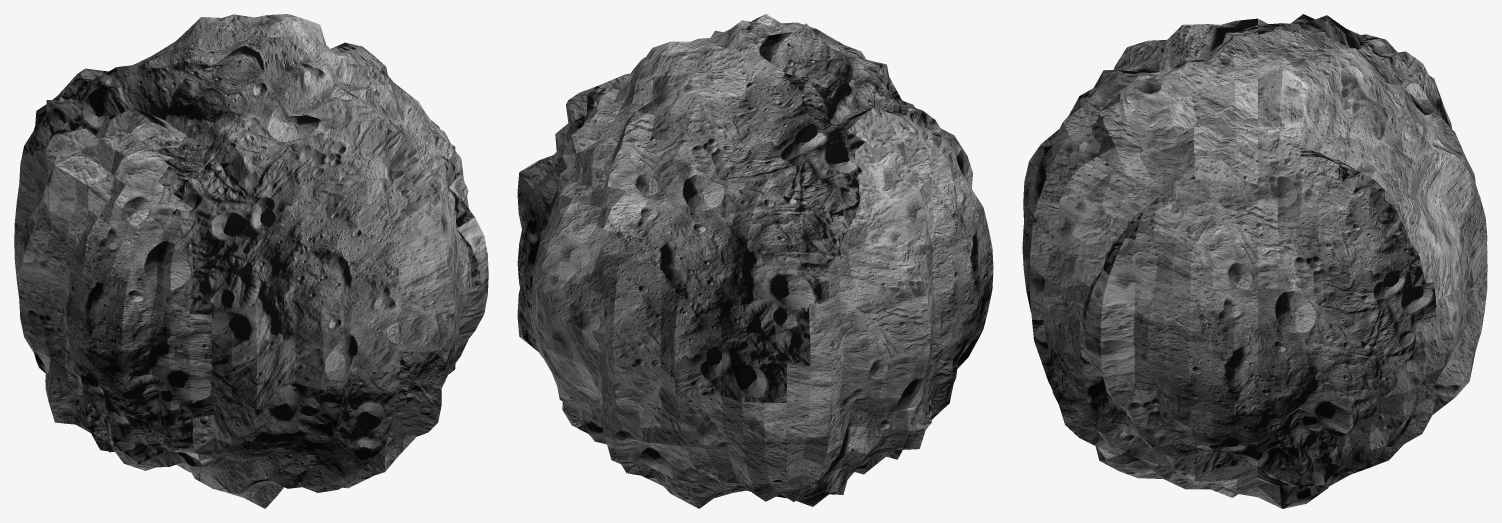
Rendered from asteroid192.obj.
3 renders of one model, left to right at view 1: azimuth 30°, elevation 25°; view 2: azimuth 150°, elevation 25°; view 3: azimuth 270°, elevation 25°, orthographic.
Visible parts, largest first — view 1: Cube_Cube.002; view 2: Cube_Cube.002; view 3: Cube_Cube.002.
Boxes of the visible parts, box(x1,y1,x2,y2) form: Cube_Cube.002: box(14, 14, 488, 508); Cube_Cube.002: box(517, 14, 993, 508); Cube_Cube.002: box(1022, 14, 1487, 508).
Size of the model in its own units: 1.76 by 1.87 by 1.72.
